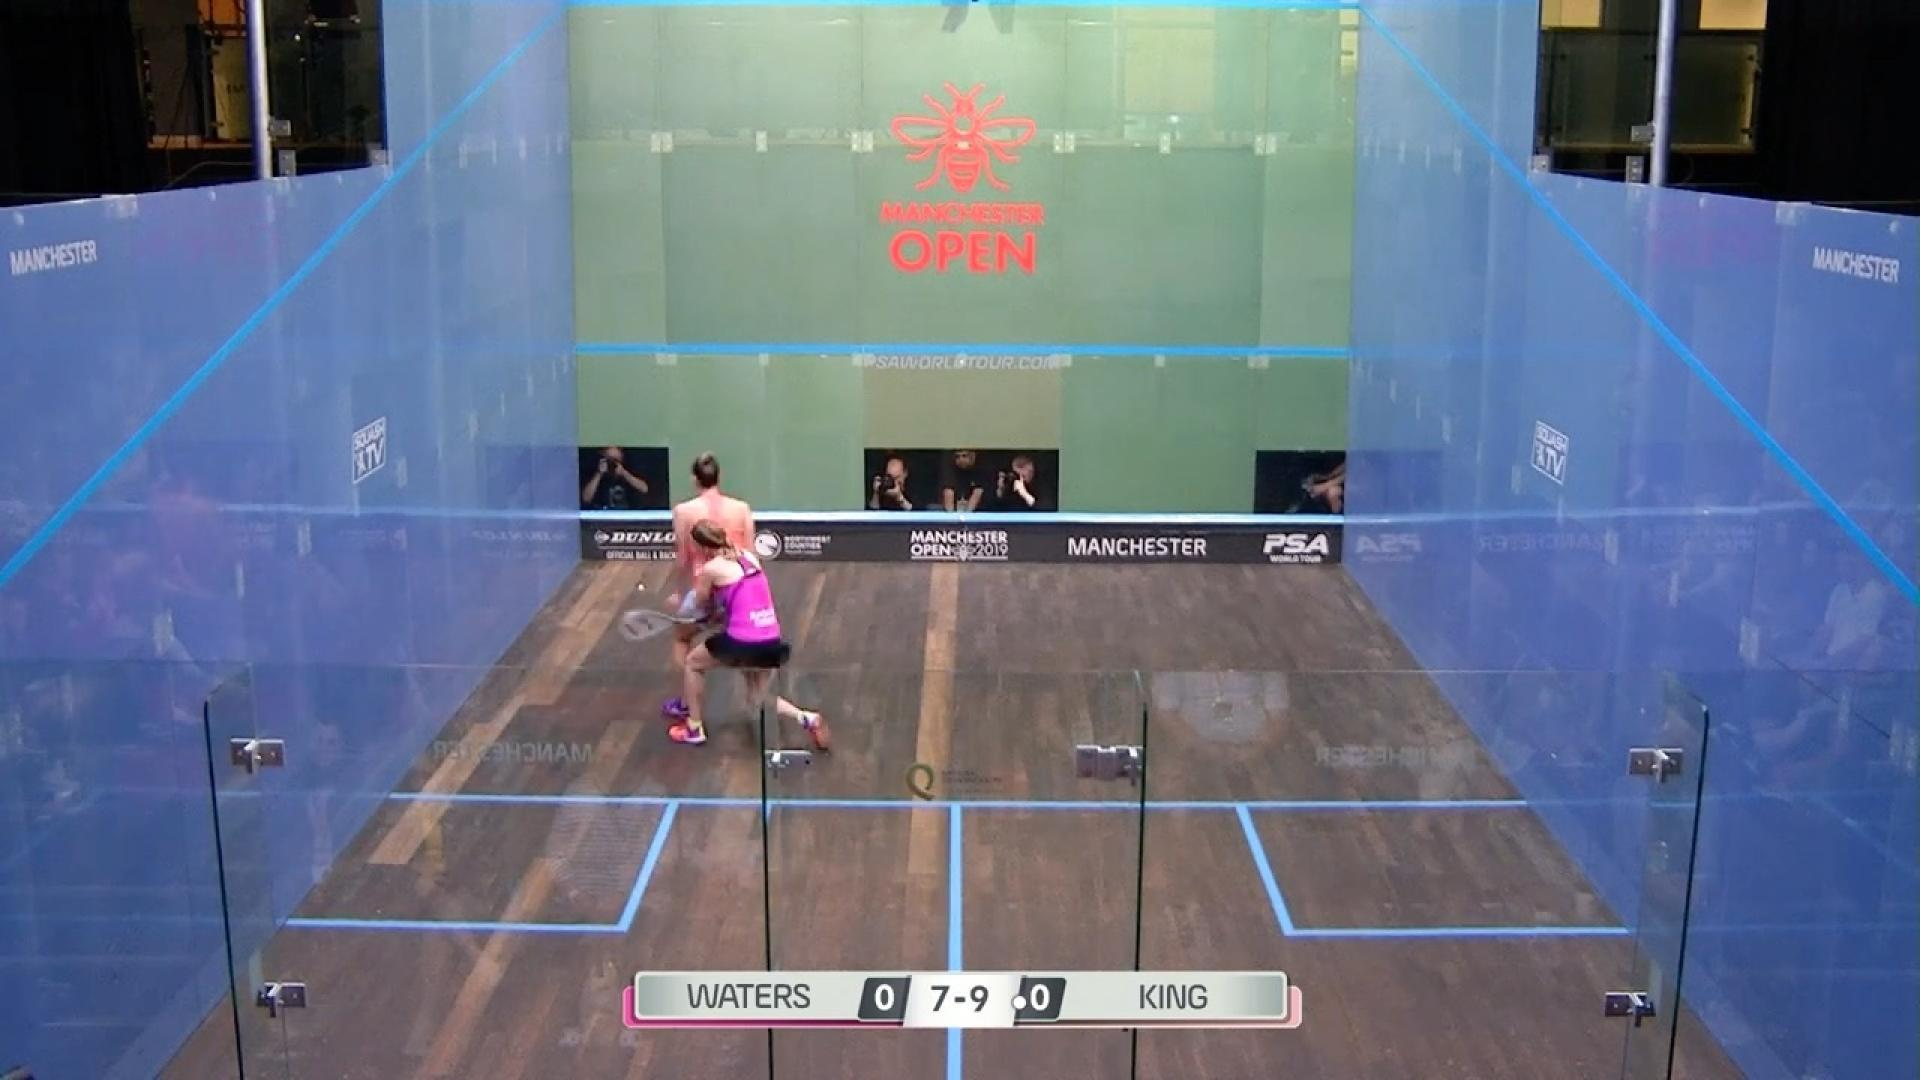Squash-Ball: (622, 570, 659, 613)
